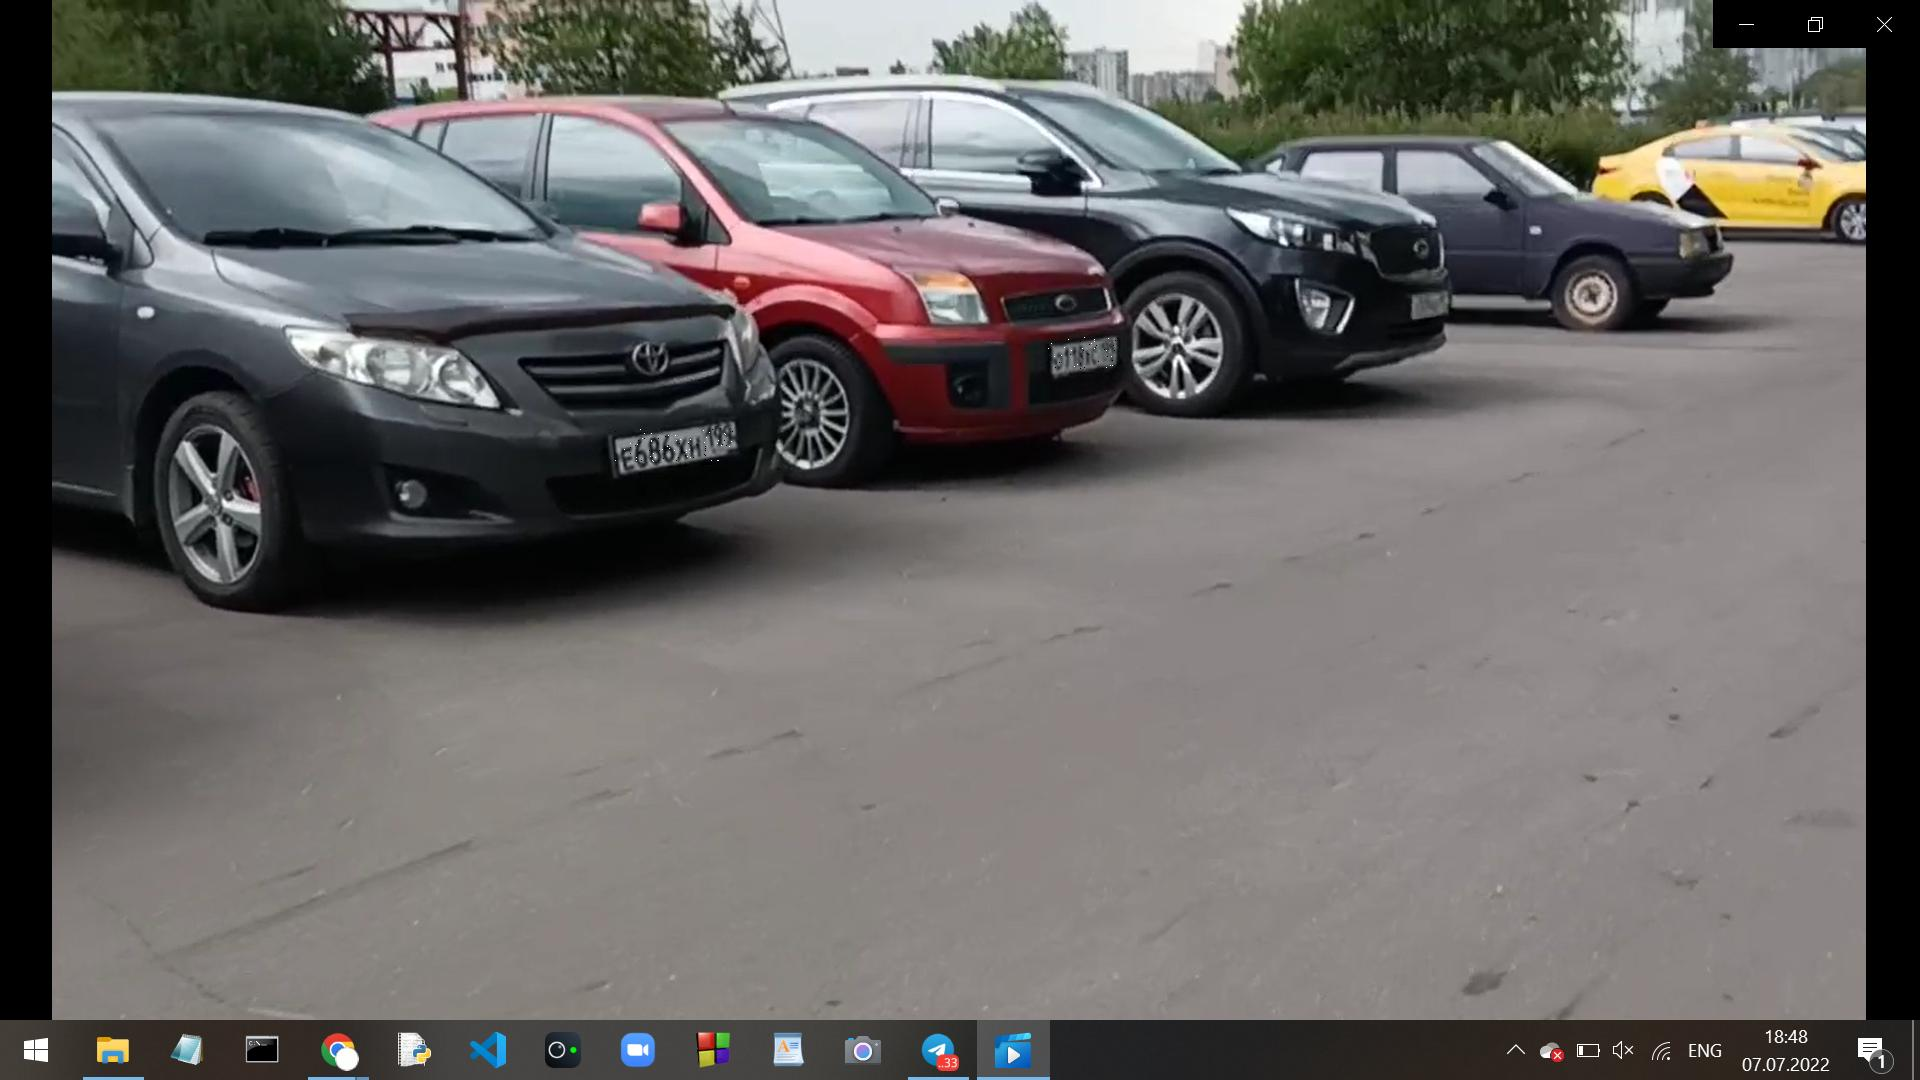plate: (616, 427, 735, 463), (1049, 338, 1119, 370)
